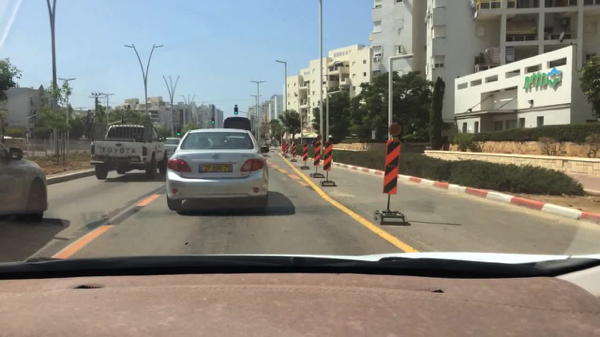bus: (223, 117, 253, 133)
car: (166, 128, 270, 214), (0, 138, 49, 224), (162, 137, 180, 157)
traffic light: (176, 125, 180, 136), (233, 107, 238, 115), (212, 117, 214, 126)
truck: (89, 122, 169, 179)
